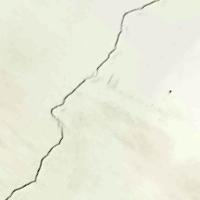crack: (1, 0, 161, 199)
